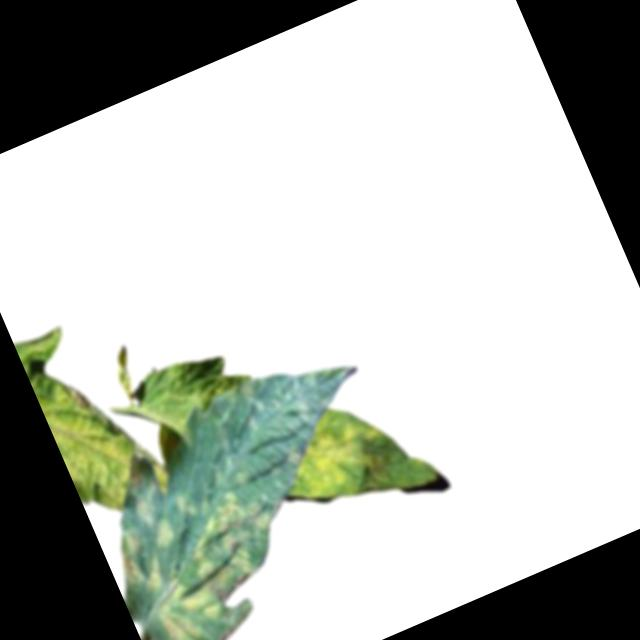Leaf_Mold: (104, 463, 321, 640), (37, 364, 171, 533), (277, 401, 396, 511)
